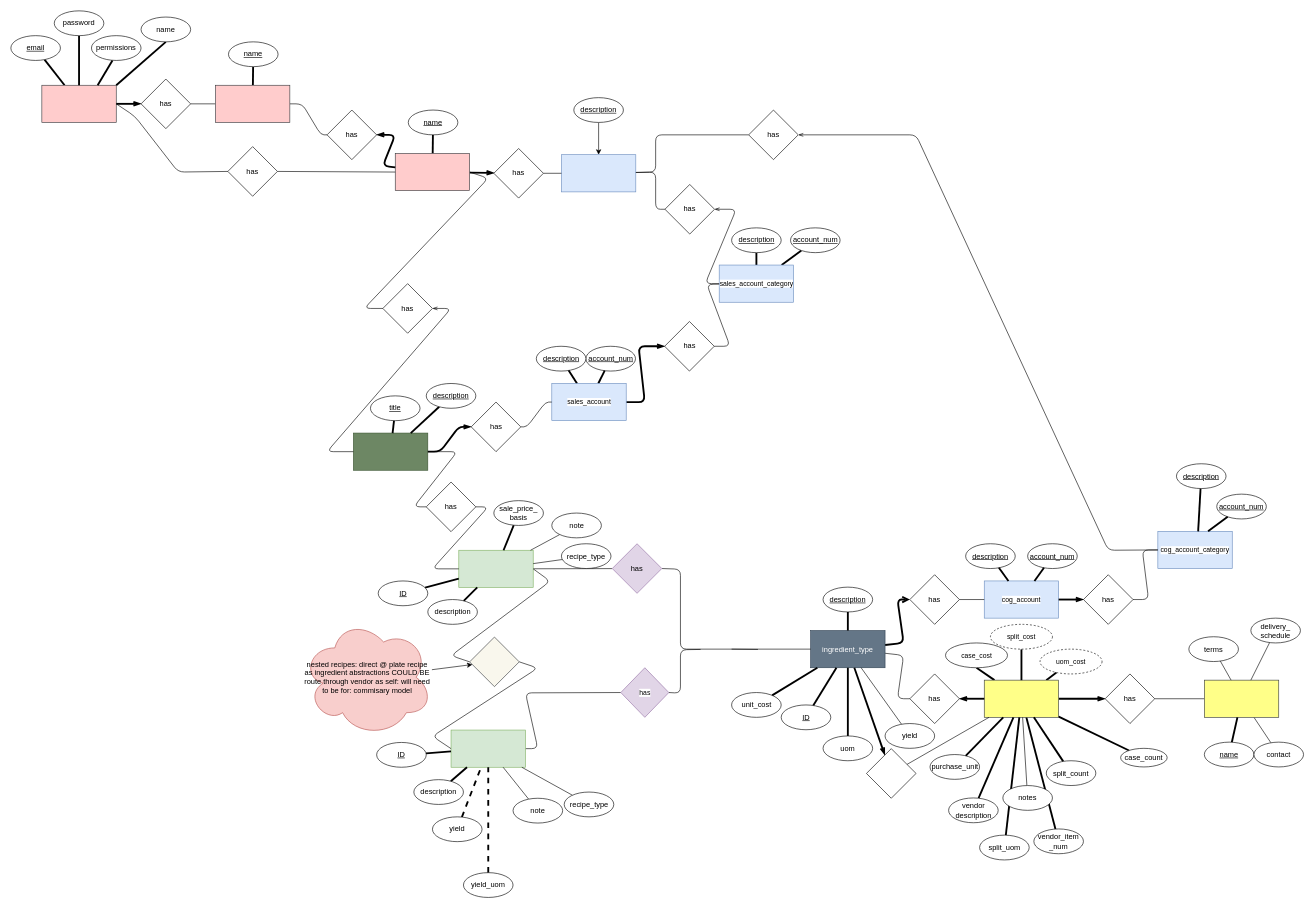
This 1314x908 diagram has some shape labels left out. The centre of each missing label's shape, as x and y in pixels:
chart_of_accounts: (x=598, y=173)
company: (x=252, y=103)
ingredient_vendor _item: (x=1021, y=698)
may have: (x=494, y=661)
menu: (x=390, y=451)
preferred_ing: (x=891, y=773)
recipe_nested: (x=487, y=748)
recipe_plate: (x=495, y=568)
store: (x=432, y=172)
user: (x=78, y=103)
vendor: (x=1241, y=698)
